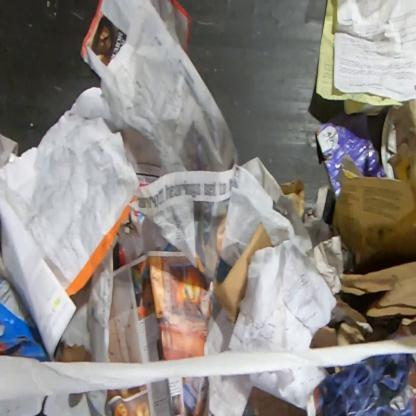cardboard: (331, 99, 415, 267), (309, 260, 415, 349), (214, 220, 274, 324), (314, 121, 387, 197), (0, 276, 51, 362), (279, 178, 305, 219)
